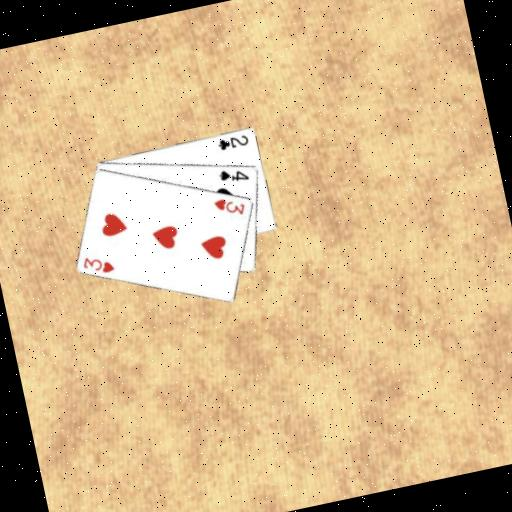2C: (214, 130, 251, 152)
3H: (210, 190, 248, 221), (78, 248, 117, 278)
4S: (215, 161, 251, 186)
